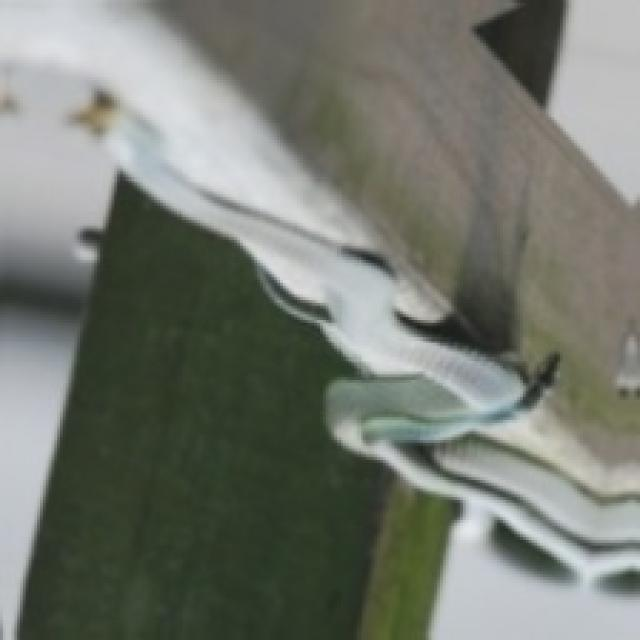paradise tree snake: (0, 0, 520, 409), (277, 0, 637, 577), (3, 74, 97, 194)
